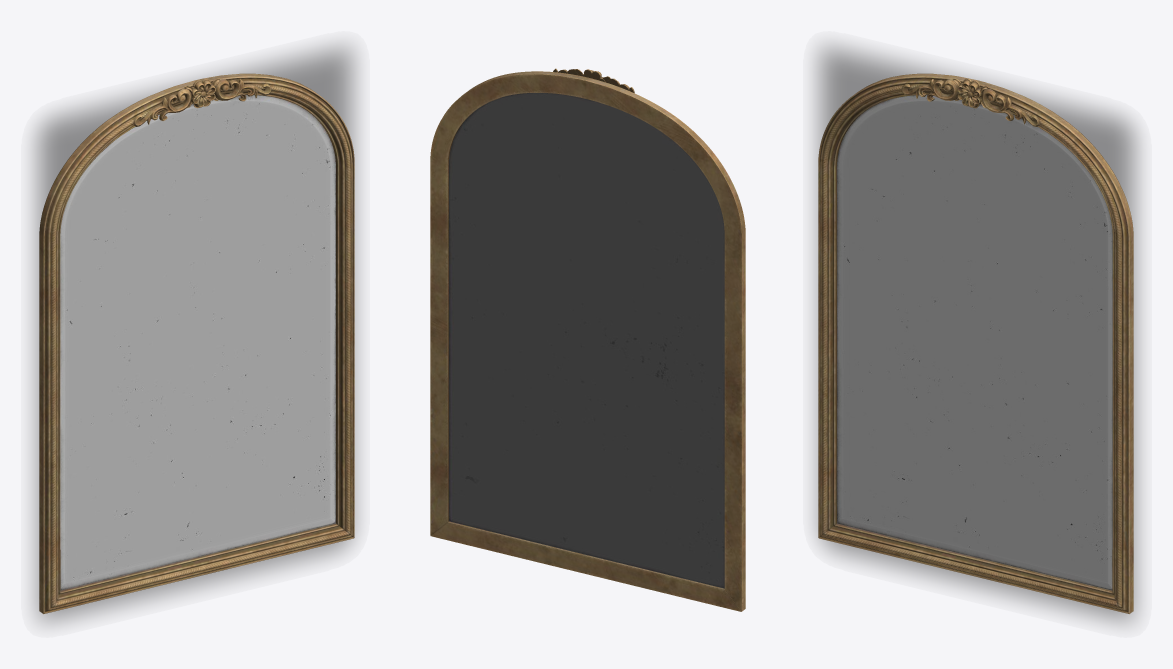
Rendered from test-ornate-mirror-01.7d95f1c7f7.ar.glb.
3 renders of one model, left to right at view 1: azimuth 30°, elevation 25°; view 2: azimuth 150°, elevation 25°; view 3: azimuth 330°, elevation 25°, orthographic.
Visible parts, largest first — view 1: ornate_mirror_01, object 2; view 2: ornate_mirror_01; view 3: ornate_mirror_01, object 2.
Boxes of the visible parts, <box> form: ornate_mirror_01: <box>39,73,354,614</box>; object 2: <box>33,45,357,623</box>; ornate_mirror_01: <box>430,68,745,611</box>; ornate_mirror_01: <box>818,73,1133,614</box>; object 2: <box>815,45,1139,623</box>.
Bounding box in the file's own units: 0.5665 × 0.8242 × 0.026.
2 materials, 2 textured.
